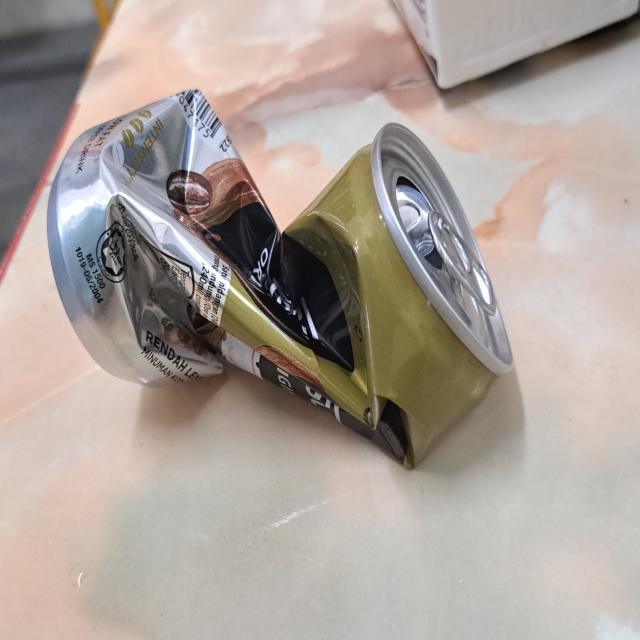can: (35, 86, 528, 470)
pop tab: (425, 202, 499, 304)
